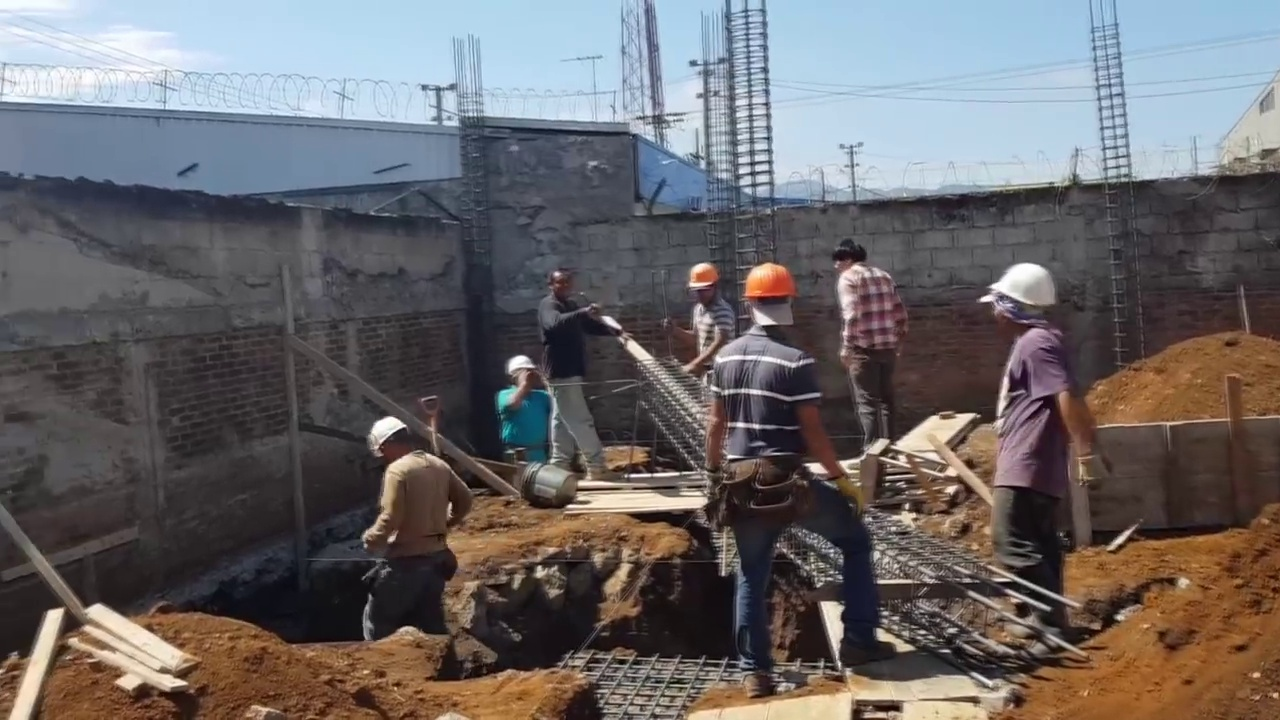helmet: (989, 264, 1061, 313), (742, 263, 796, 303), (366, 416, 410, 459), (505, 356, 538, 376), (690, 263, 717, 286)
helmet-off: (835, 240, 866, 274), (546, 266, 575, 299)
helmet-on: (978, 260, 1062, 337), (739, 265, 805, 337), (363, 420, 411, 469), (685, 260, 721, 312), (506, 356, 539, 391)
person: (710, 255, 859, 707), (976, 265, 1100, 658), (349, 416, 474, 652), (829, 243, 909, 460), (540, 264, 616, 486), (488, 351, 557, 465), (679, 261, 735, 392)
